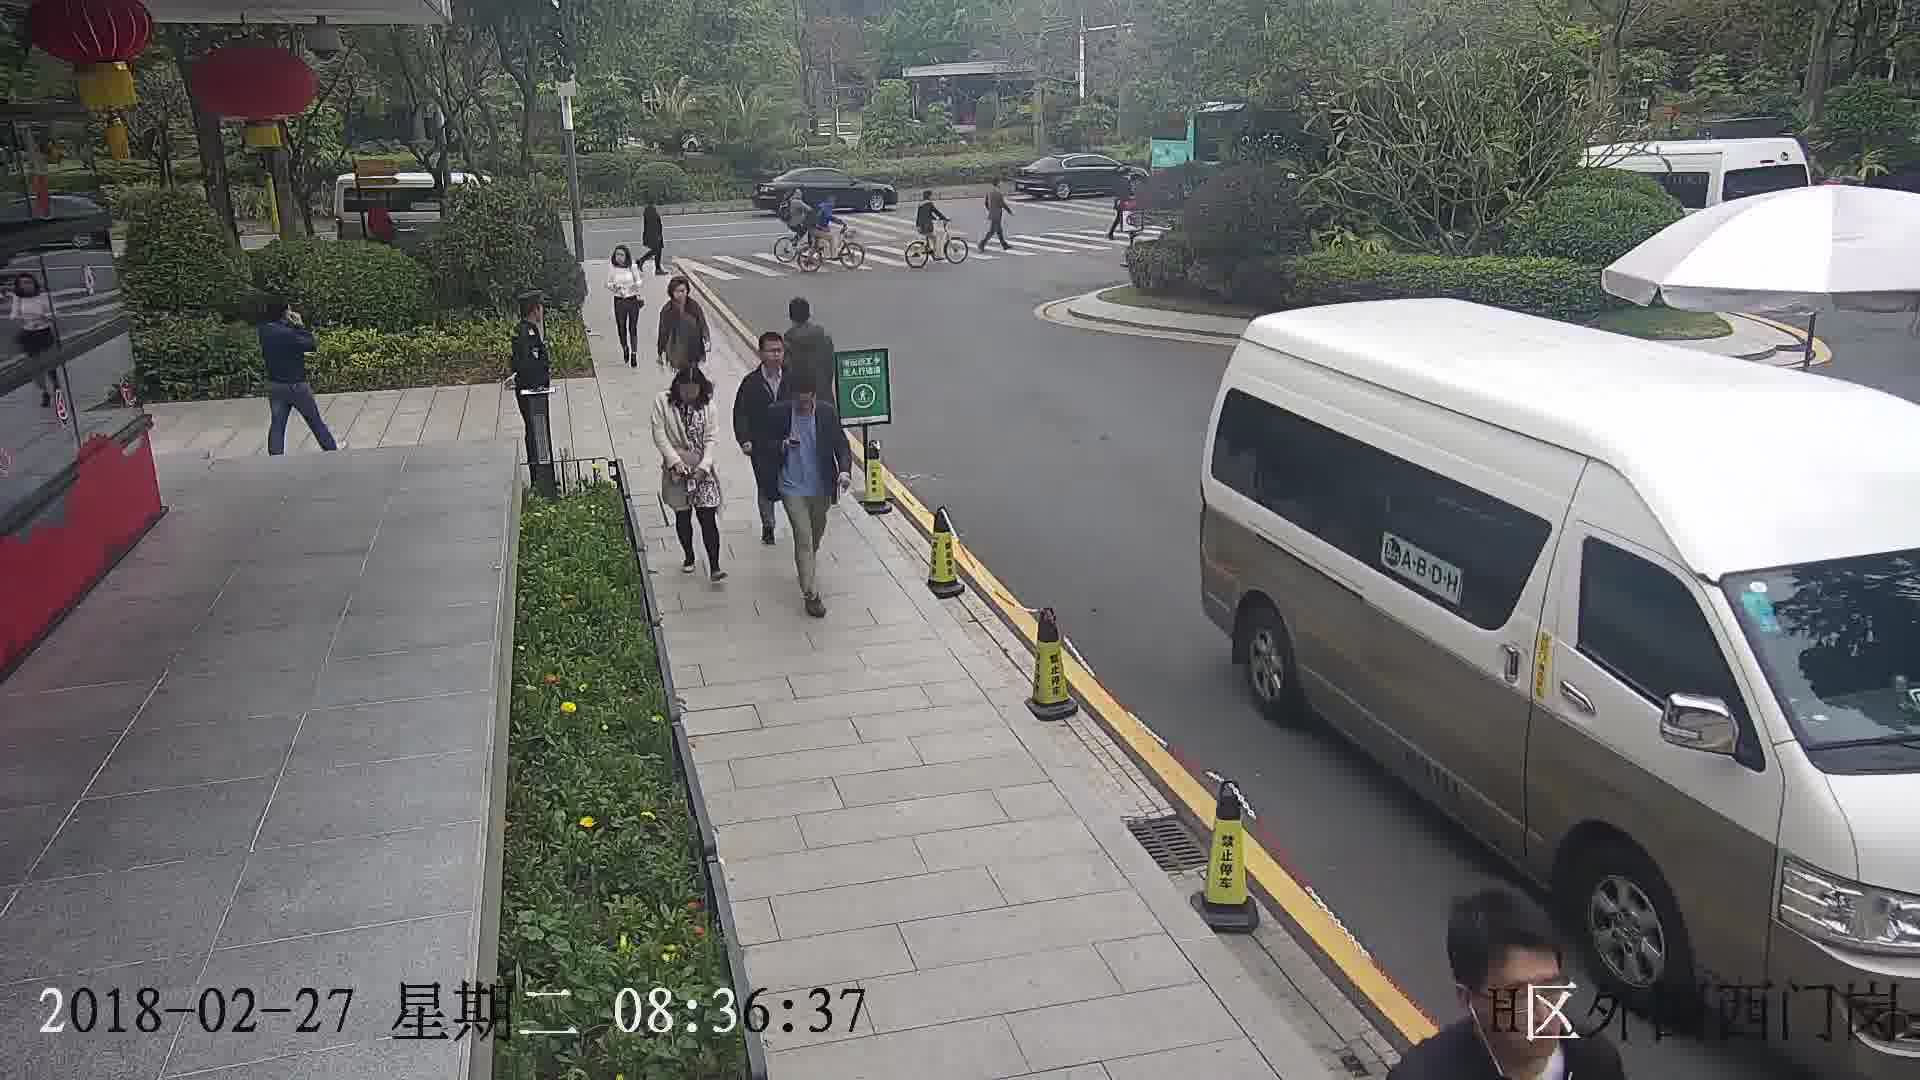face: (1465, 948, 1573, 1056)
person: (1391, 888, 1631, 1079), (776, 366, 836, 431), (740, 327, 794, 393), (654, 360, 718, 416), (781, 292, 833, 347), (259, 296, 308, 340), (511, 291, 551, 344), (659, 274, 703, 321), (607, 244, 640, 276), (811, 193, 839, 219), (983, 172, 1007, 199), (781, 187, 809, 206), (645, 198, 664, 222), (1115, 163, 1135, 187), (918, 185, 935, 208)
